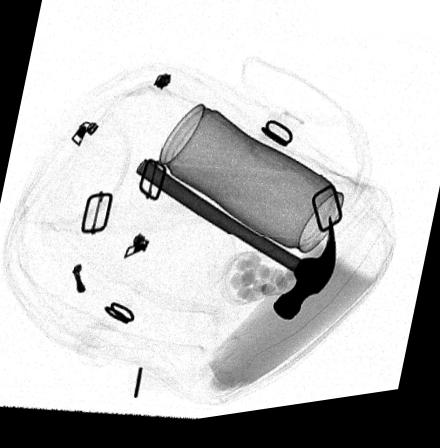Hammer: (134, 162, 337, 330)
